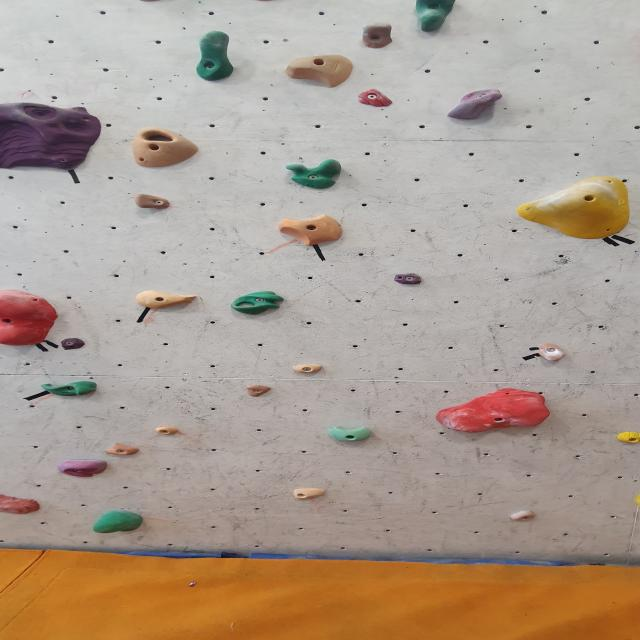Crimp: (0, 101, 109, 173), (130, 192, 176, 212), (356, 88, 396, 110), (508, 509, 538, 524), (294, 488, 326, 502), (291, 362, 324, 375), (243, 384, 276, 397), (152, 425, 183, 438)
Jug: (190, 29, 239, 83), (284, 160, 346, 193), (410, 0, 464, 34), (357, 20, 398, 49), (38, 380, 100, 398), (327, 424, 375, 443), (530, 342, 568, 362)
Pinch: (280, 52, 358, 90), (276, 214, 351, 247), (443, 88, 505, 123), (132, 289, 200, 310), (101, 440, 140, 457)
Pocket: (126, 125, 203, 169), (230, 290, 288, 316)
Sloper: (510, 175, 634, 243), (431, 389, 554, 435), (0, 286, 62, 346), (89, 509, 145, 536), (56, 458, 112, 478), (0, 492, 44, 516)
